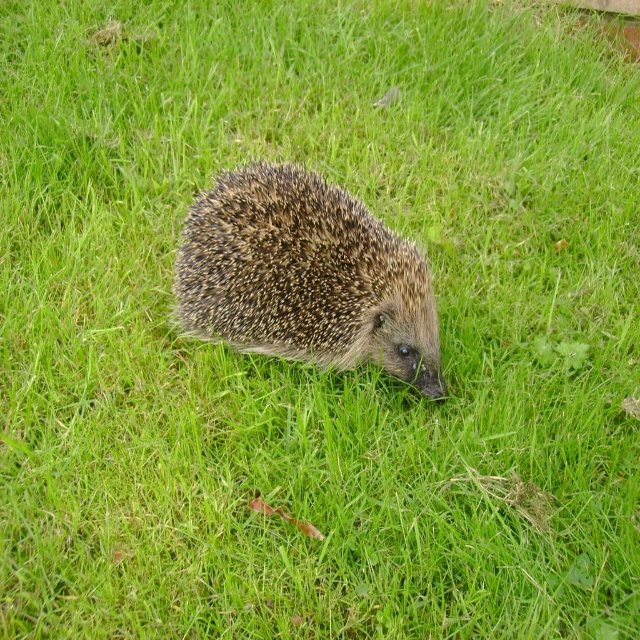Hedgehog: (164, 156, 450, 406)
